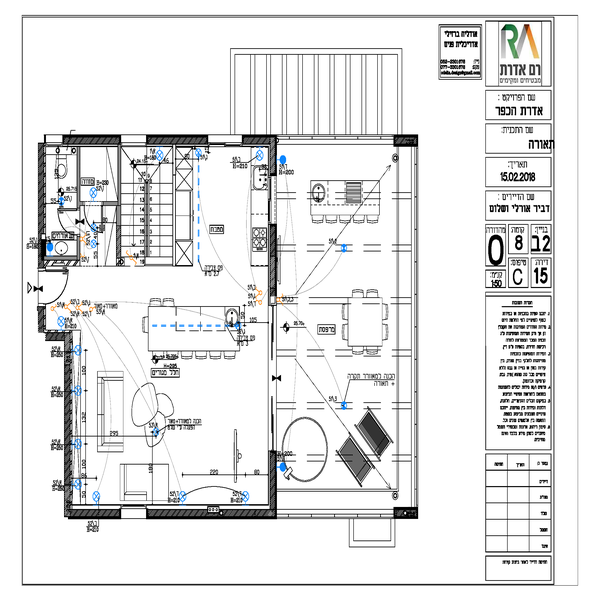door: (38, 265, 75, 309), (80, 205, 110, 240), (57, 202, 84, 240)
room: (65, 321, 277, 518), (116, 133, 280, 311), (37, 130, 126, 268)
wall: (64, 331, 73, 514), (266, 226, 280, 304), (64, 131, 117, 149), (147, 135, 207, 149), (242, 132, 280, 150), (267, 449, 278, 509), (147, 506, 278, 511), (71, 508, 116, 521)
window: (266, 303, 277, 444), (265, 174, 280, 220), (207, 133, 240, 147), (117, 136, 147, 148), (119, 507, 145, 516)
